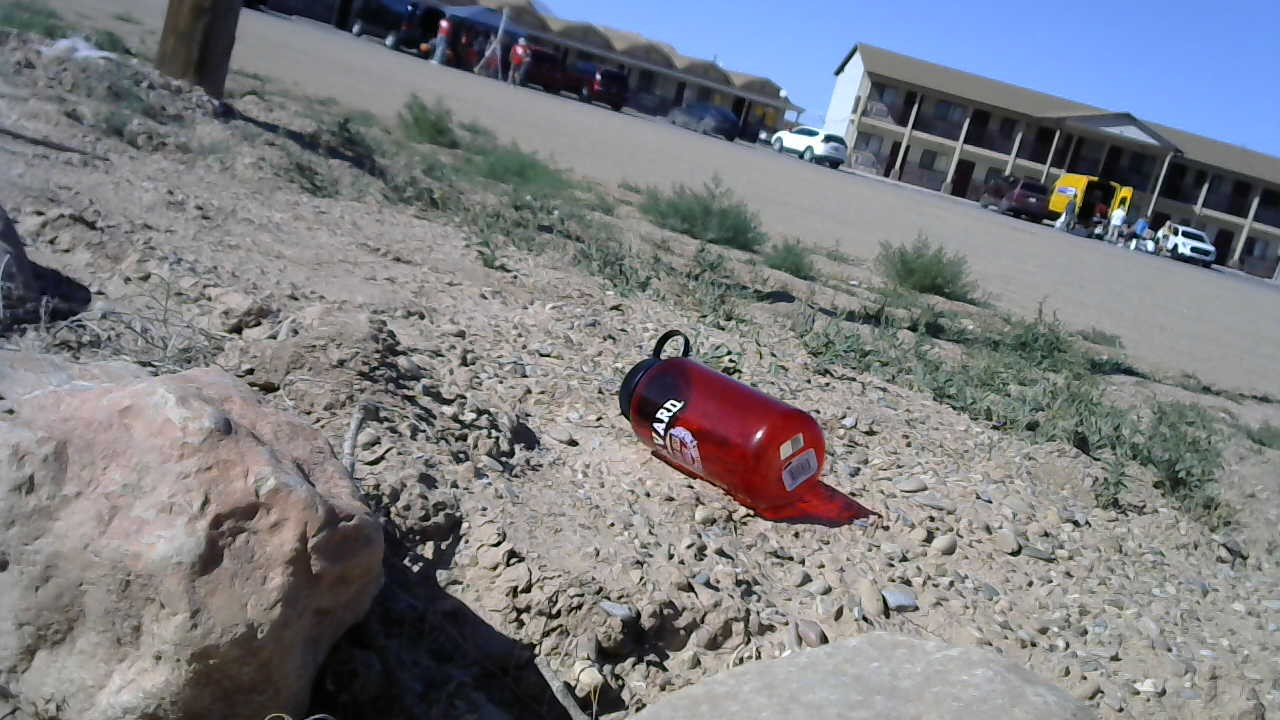bottle: (615, 328, 829, 514)
